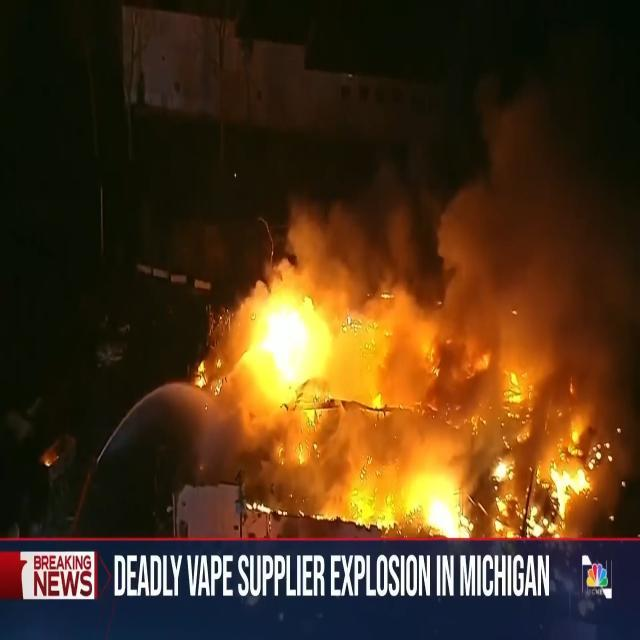fire: (476, 331, 610, 538), (274, 416, 471, 540), (226, 282, 348, 412), (350, 298, 442, 420)
